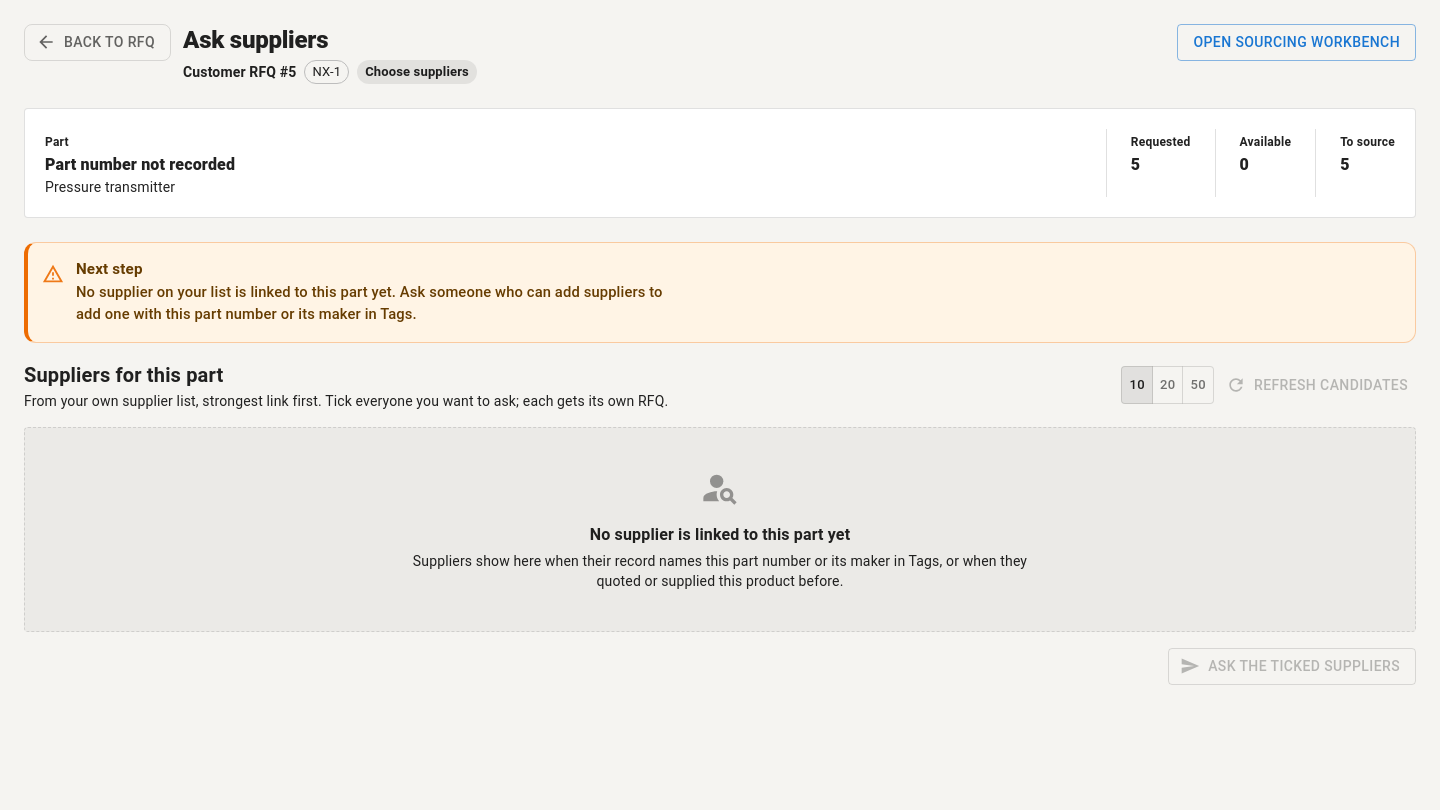
Test: SourcingCasePage — Refresh candidates says why it is disabled › names the missing permission
Hover over the element showing "Refresh candidates": (1319, 385) top-left (1222, 367), bottom-right (1416, 403)
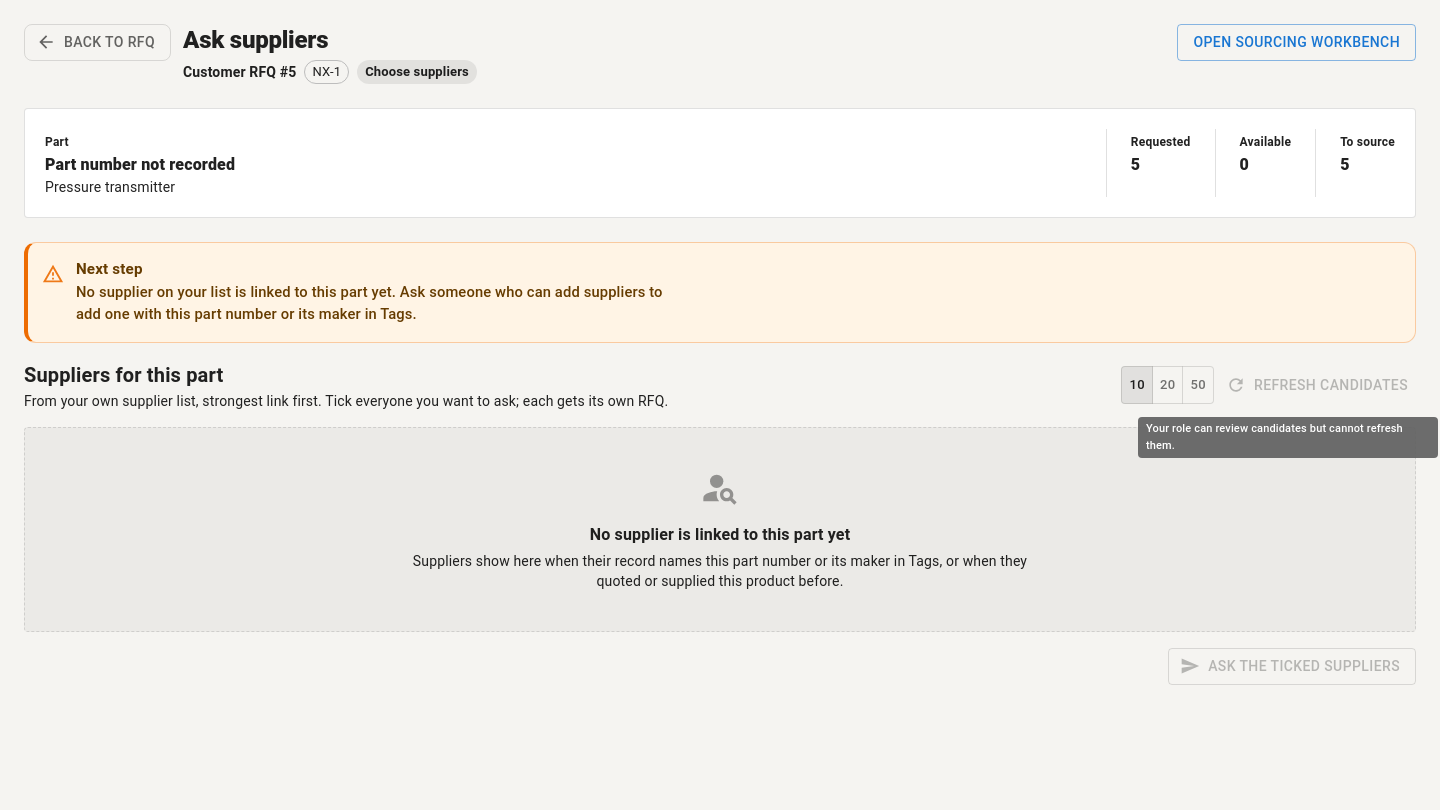
Now the text "Your role can review candidates but cannot refresh them." is shown, box top-left (1138, 417), bottom-right (1438, 458)
